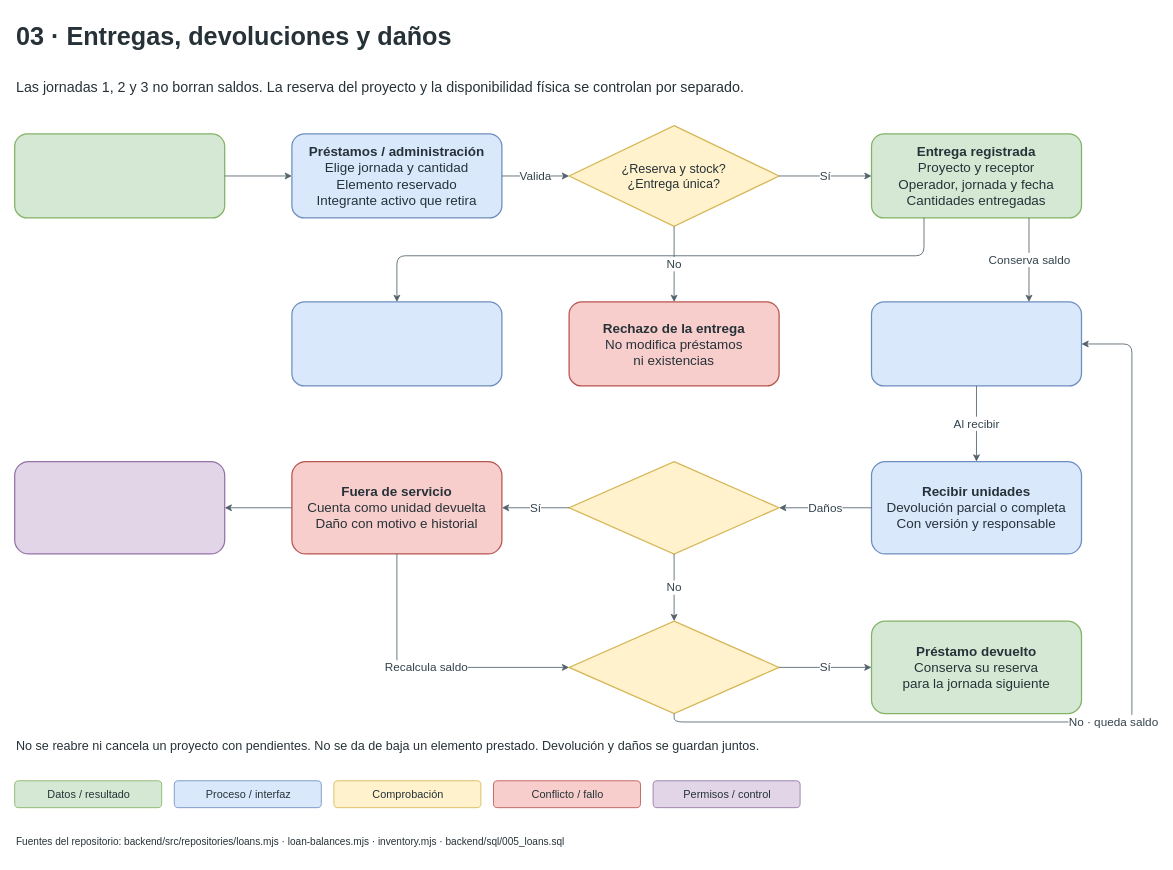
Some shapes in this 1173 by 870 pixel diagram are drawn without their labels. Each missing label, with the centre of its shape:
"Administración Revisa o repara y ajusta el estado con un motivo" goes at point (119, 507).
"Proyecto confirmado Con una reserva activa de elementos" goes at point (119, 175).
"Registrar novedad Cantidad 0 + explicación No devuelve unidades" goes at point (396, 343).
"Saldo sin devolver Consume disponibilidad en todas las jornadas" goes at point (976, 343).
"¿Alguna unidad volvió dañada?" goes at point (673, 507).
"¿Saldo del préstamo en 0?" goes at point (673, 667).
